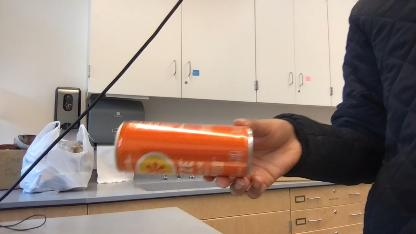Can: (112, 115, 254, 182)
